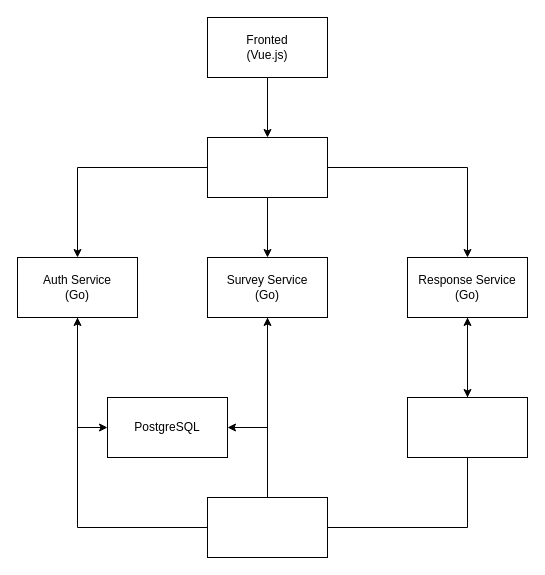
The diagram is 545 pixels wide and 575 high, and some of its shapes have lost their labels. Here are the shapes that lost their labels. From the top down, the centre of each, then its label:
At point (267, 167): "API Gateway (Go)".
At point (467, 427): "MongoDB".
At point (267, 527): "RabbitMQ".
